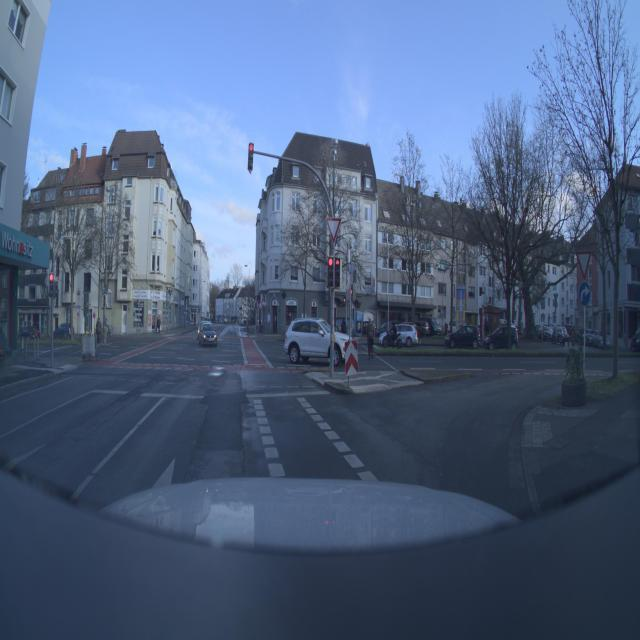red_light: (324, 253, 344, 289), (241, 138, 257, 174), (45, 273, 59, 304)
